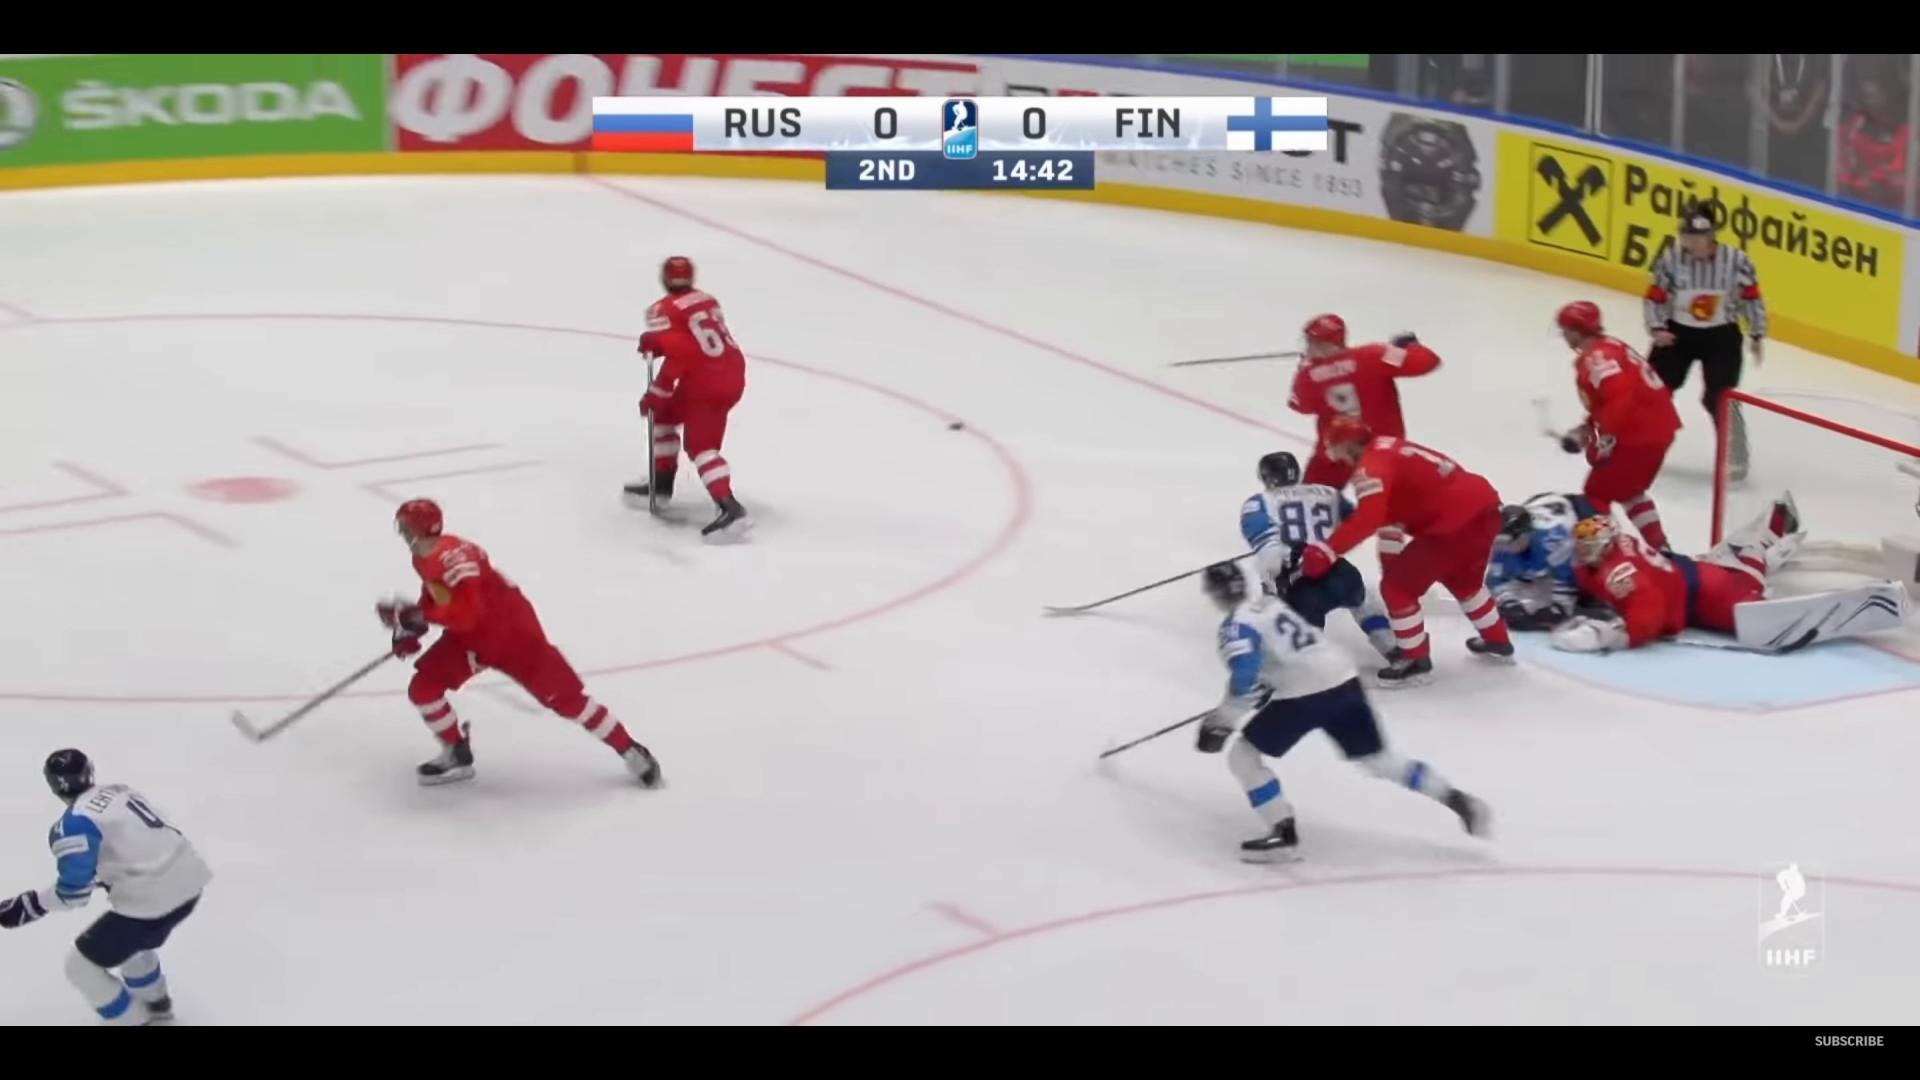puck: (945, 419, 964, 430)
